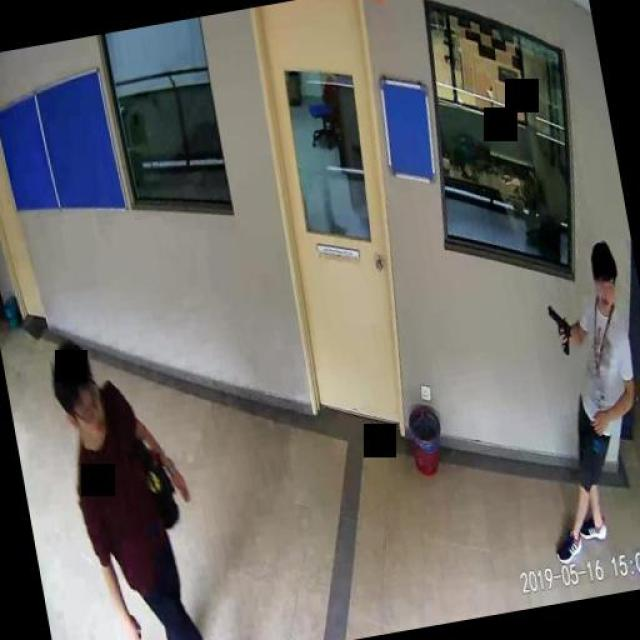gun: (544, 300, 572, 354)
